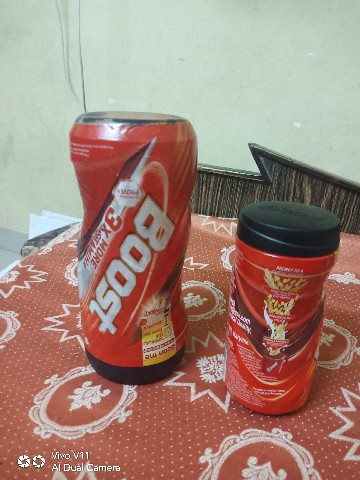boost big: (58, 84, 200, 391)
boost small: (216, 197, 343, 420)
